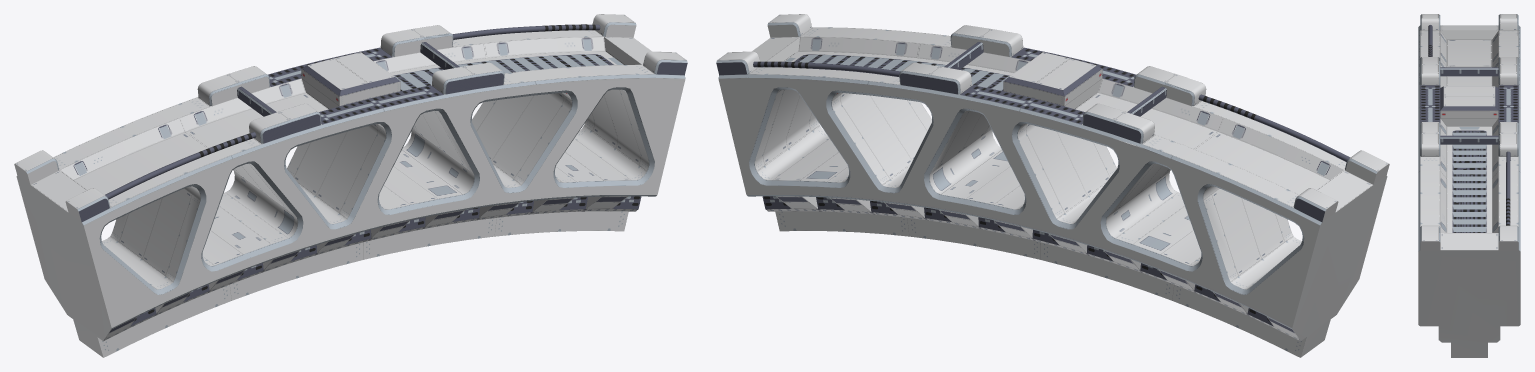
Rendered from Stargate_Part_A.FBX.
3 renders of one model, left to right at view 1: azimuth 30°, elevation 25°; view 2: azimuth 150°, elevation 25°; view 3: azimuth 270°, elevation 25°, orthographic. The views are drawn at different scales.
Visible parts, largest first — view 1: Stargate_Part_A; view 2: Stargate_Part_A; view 3: Stargate_Part_A.
Boxes of the visible parts, <box> form: Stargate_Part_A: <box>14,14,687,357</box>; Stargate_Part_A: <box>716,14,1389,357</box>; Stargate_Part_A: <box>1418,14,1520,357</box>.
Bounding box in the file's own units: 251 × 84.65 × 47.84.
3 materials, 3 textured.
